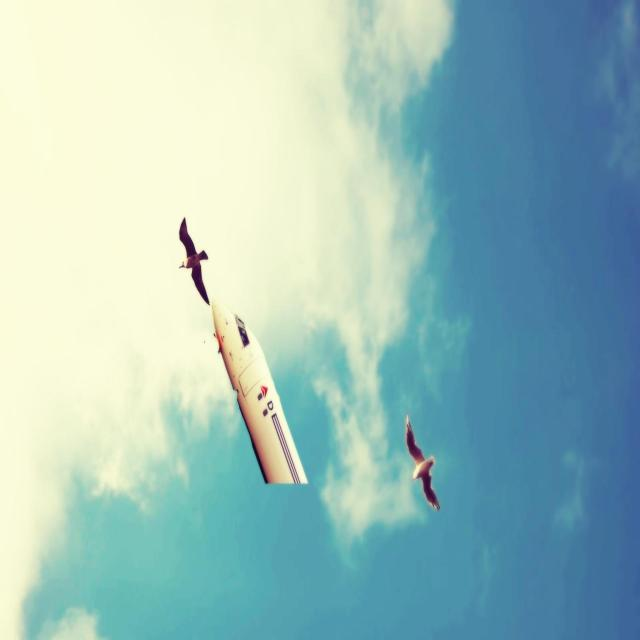airplane: (210, 296, 308, 486)
